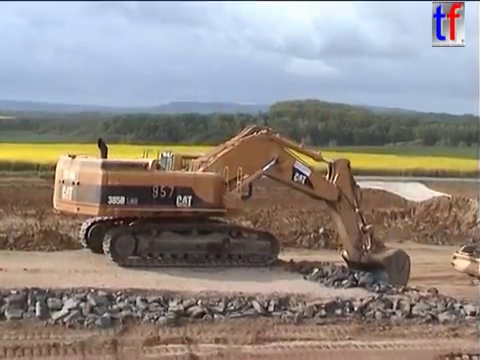excavator: (49, 122, 412, 310)
truck: (447, 239, 480, 285)
